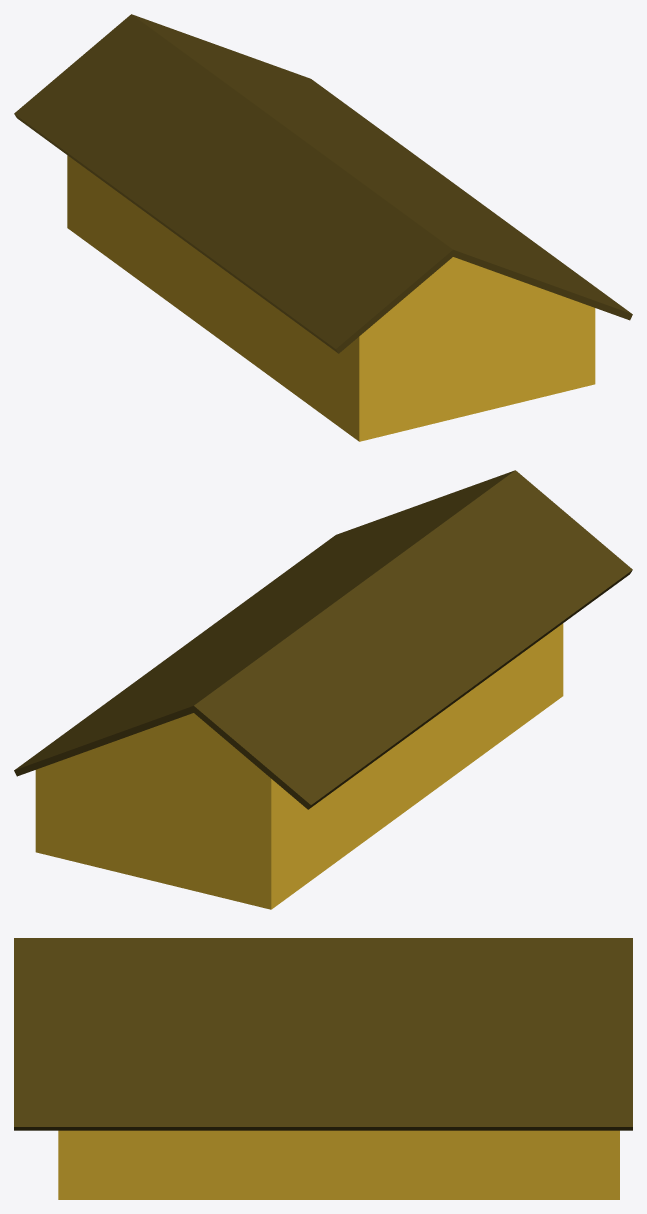
File: result.dae
The picture shows the model from 3 angles, top to bottom: view 1: azimuth 30°, elevation 25°; view 2: azimuth 150°, elevation 25°; view 3: azimuth 270°, elevation 25°; orthographic projection. The views are drawn at different scales.
Visible parts, largest first — view 1: 5d222181-267e-41db-876f-a79e78b2ef6a__undefined (×5), f6defe7f-a2b9-4413-a63a-5d1ebead935c__undefined (×2); view 2: 5d222181-267e-41db-876f-a79e78b2ef6a__undefined (×5), f6defe7f-a2b9-4413-a63a-5d1ebead935c__undefined (×2); view 3: 5d222181-267e-41db-876f-a79e78b2ef6a__undefined (×2), f6defe7f-a2b9-4413-a63a-5d1ebead935c__undefined.
Boxes of the visible parts, bbox=[...] form: 5d222181-267e-41db-876f-a79e78b2ef6a__undefined (×5): bbox=[14, 14, 632, 353]; f6defe7f-a2b9-4413-a63a-5d1ebead935c__undefined (×2): bbox=[67, 155, 595, 441]; 5d222181-267e-41db-876f-a79e78b2ef6a__undefined (×5): bbox=[14, 470, 632, 809]; f6defe7f-a2b9-4413-a63a-5d1ebead935c__undefined (×2): bbox=[35, 623, 563, 909]; 5d222181-267e-41db-876f-a79e78b2ef6a__undefined (×2): bbox=[14, 938, 632, 1130]; f6defe7f-a2b9-4413-a63a-5d1ebead935c__undefined: bbox=[58, 1130, 619, 1199].
Bounding box in the file's own units: 1258 × 776 × 2360.
